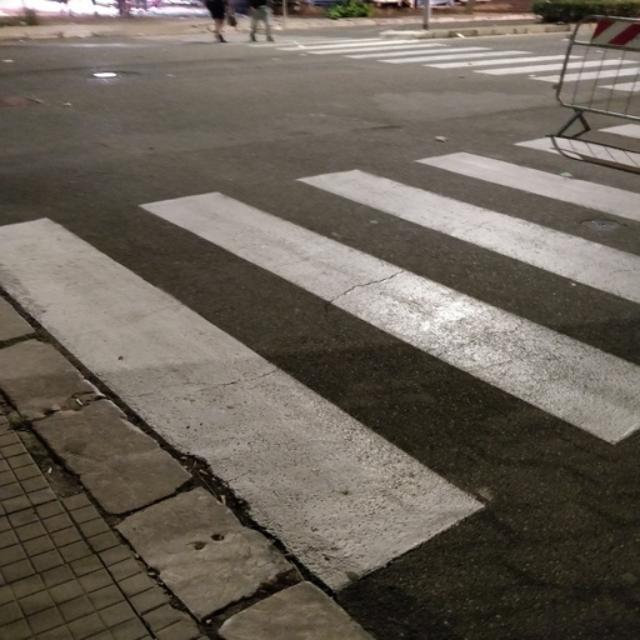sidewalk: (0, 142, 638, 604)
